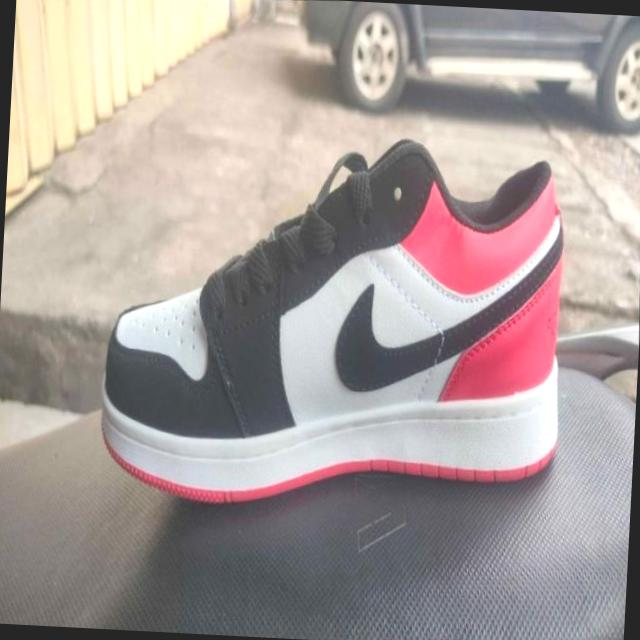nike_fake_jordan: (88, 118, 582, 526)
